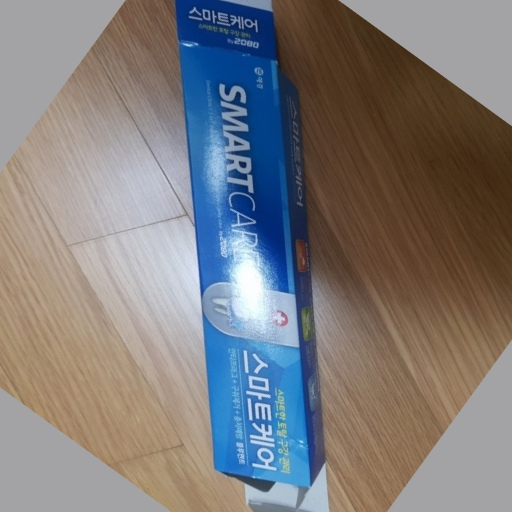Paper_0: (172, 1, 341, 511)
